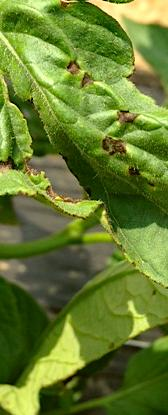Tomato leaf bacterial spot: (0, 0, 168, 322)
